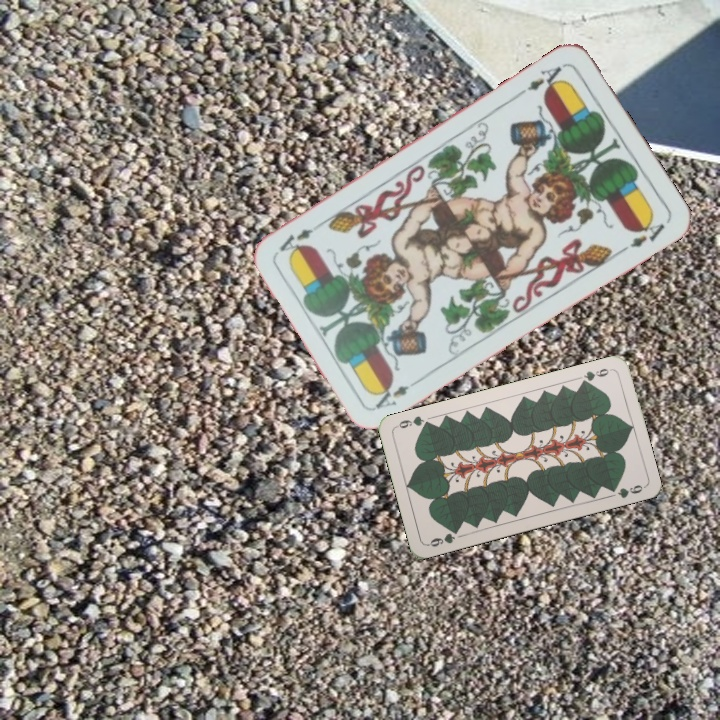EA: (370, 374, 424, 412), (515, 61, 567, 98)
G9: (424, 525, 462, 550), (576, 364, 614, 387)
